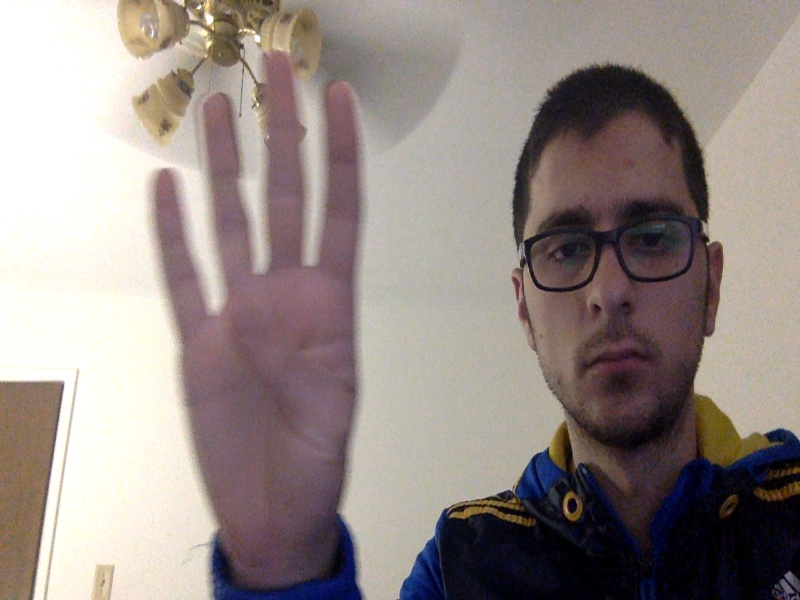4-hand: (142, 55, 361, 558)
